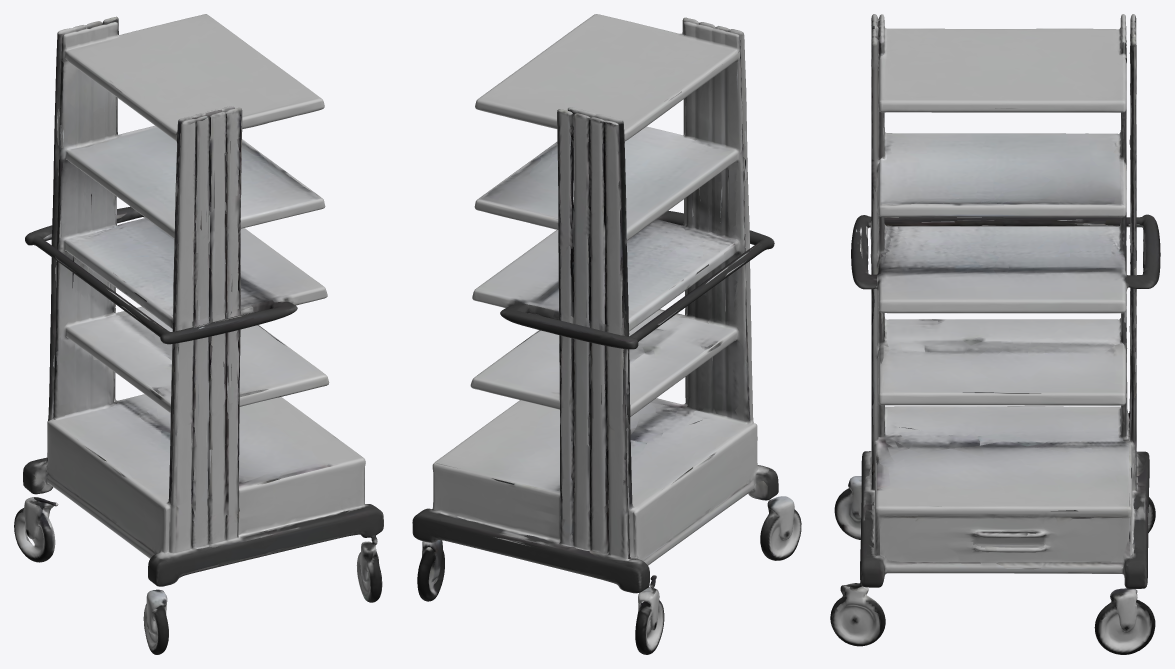
Rendered from Endoscopic_stand.glb.
3 views of the same model, side by side, from view 1: azimuth 30°, elevation 25°; view 2: azimuth 150°, elevation 25°; view 3: azimuth 270°, elevation 25° (orthographic). The views are drawn at different scales.
Visible parts, largest first — view 1: tripo_node_2adde86e-20bb-4616-9b45-76e105ebbb06; view 2: tripo_node_2adde86e-20bb-4616-9b45-76e105ebbb06; view 3: tripo_node_2adde86e-20bb-4616-9b45-76e105ebbb06.
Boxes of the visible parts, left/top/right/bottom form: tripo_node_2adde86e-20bb-4616-9b45-76e105ebbb06: left=14, top=14, right=383, bottom=654; tripo_node_2adde86e-20bb-4616-9b45-76e105ebbb06: left=412, top=14, right=801, bottom=654; tripo_node_2adde86e-20bb-4616-9b45-76e105ebbb06: left=830, top=14, right=1160, bottom=654.
Bounding box in the file's own units: 0.458 × 0.9501 × 0.5217.
1 material, 1 textured.
